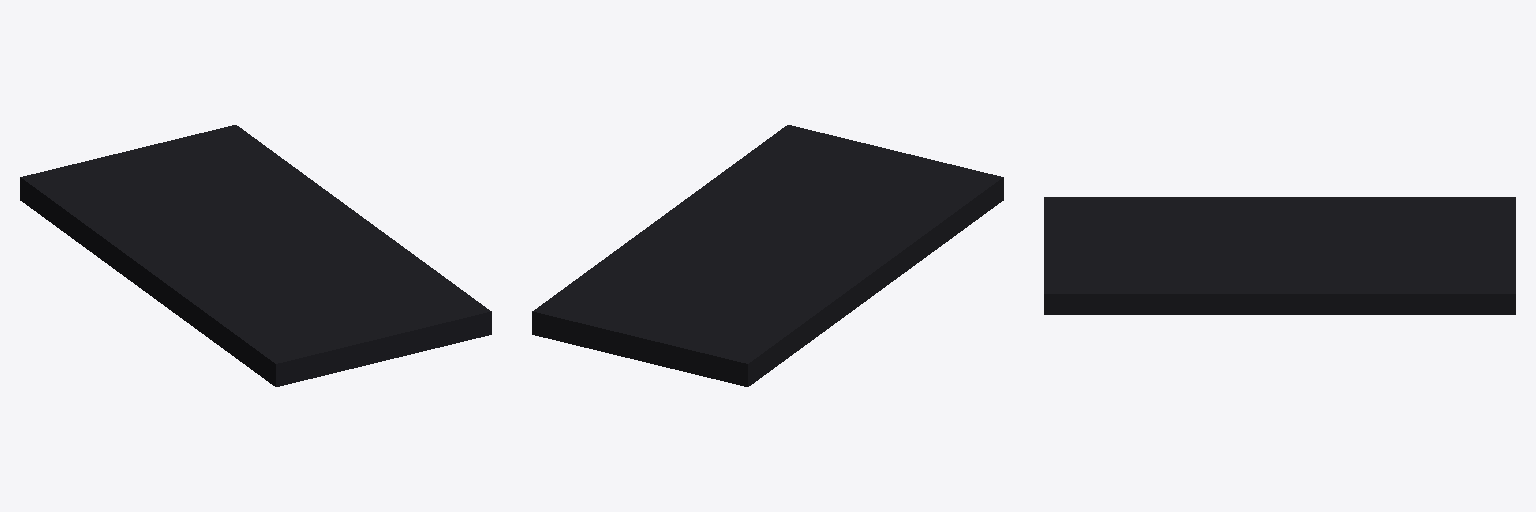
The robot description file, URDF, robot "iphone_12":
<?xml version="1.0"?>
<!-- iPhone 12: generated by imuninn from Apple's dimensional drawings (iphone-frames dataset). Frames: device = display centre on the front glass (x right, y top, z out of the screen); cam_*_optical = OpenCV axes. Geometry and mass are approximate. -->
<robot name="iphone_12">
  <material name="iphone_body">
    <color rgba="0.15 0.15 0.17 1" />
  </material>
  <material name="iphone_lens">
    <color rgba="0.05 0.05 0.06 1" />
  </material>
  <link name="device">
    <visual name="body">
      <origin xyz="0 0 -0.003695" rpy="0 0 0" />
      <geometry>
        <box size="0.07152 0.14671 0.00739" />
      </geometry>
      <material name="iphone_body" />
    </visual>
    <collision name="body">
      <origin xyz="0 0 -0.003695" rpy="0 0 0" />
      <geometry>
        <box size="0.07152 0.14671 0.00739" />
      </geometry>
    </collision>
    <visual name="lens_ultra_wide">
      <origin xyz="0.02303 0.060625 -0.008145" rpy="0 0 0" />
      <geometry>
        <cylinder radius="0.00605" length="0.00151" />
      </geometry>
      <material name="iphone_lens" />
    </visual>
    <visual name="lens_main">
      <origin xyz="0.02303 0.046345 -0.008145" rpy="0 0 0" />
      <geometry>
        <cylinder radius="0.00605" length="0.00151" />
      </geometry>
      <material name="iphone_lens" />
    </visual>
    <inertial>
      <origin xyz="0 0 -0.003695" rpy="0 0 0" />
      <mass value="0.178" />
      <inertia ixx="0.00032008" ixy="0" ixz="0" iyy="7.66842e-05" iyz="0" izz="0.000395144" />
    </inertial>
  </link>
  <link name="magsafe" />
  <joint name="device_to_magsafe" type="fixed">
    <parent link="device" />
    <child link="magsafe" />
    <origin xyz="0 5e-06 -0.00739" rpy="3.14159265 0 3.14159265" />
  </joint>
  <link name="cam_ultra_wide_optical" />
  <joint name="device_to_cam_ultra_wide_optical" type="fixed">
    <parent link="device" />
    <child link="cam_ultra_wide_optical" />
    <origin xyz="0.02303 0.060625 -0.0089" rpy="3.14159265 0 -1.57079633" />
  </joint>
  <link name="cam_main_optical" />
  <joint name="device_to_cam_main_optical" type="fixed">
    <parent link="device" />
    <child link="cam_main_optical" />
    <origin xyz="0.02303 0.046345 -0.0089" rpy="3.14159265 0 -1.57079633" />
  </joint>
  <link name="cam_front_optical" />
  <joint name="device_to_cam_front_optical" type="fixed">
    <parent link="device" />
    <child link="cam_front_optical" />
    <origin xyz="0 0.067885 0" rpy="0 0 1.57079633" />
  </joint>
  <link name="imu" />
  <joint name="device_to_imu" type="fixed">
    <parent link="device" />
    <child link="imu" />
    <origin xyz="0 0 0" rpy="0 0 0" />
  </joint>
</robot>

--- What the picture shows (computed from the rendered views, not written in the file) ---
Views: 3 orthographic renders of the robot side by side, from view 1: azimuth 30°, elevation 25°; view 2: azimuth 150°, elevation 25°; view 3: azimuth 270°, elevation 25°.
Robot: iphone_12 — 6 links, 5 joints (5 fixed); root link device; default pose: all joints at 0.
Visible links, largest first — view 1: device; view 2: device; view 3: device.
Boxes of the visible links, x1,y1,x2,y2 form: device: (20,125,491,386); device: (532,125,1003,386); device: (1044,197,1515,314).
Bounding box of the posed robot: 0.0715 × 0.1467 × 0.0089 m (x, y, z).
Geometry: primitives only (box / cylinder / sphere), no mesh files.
